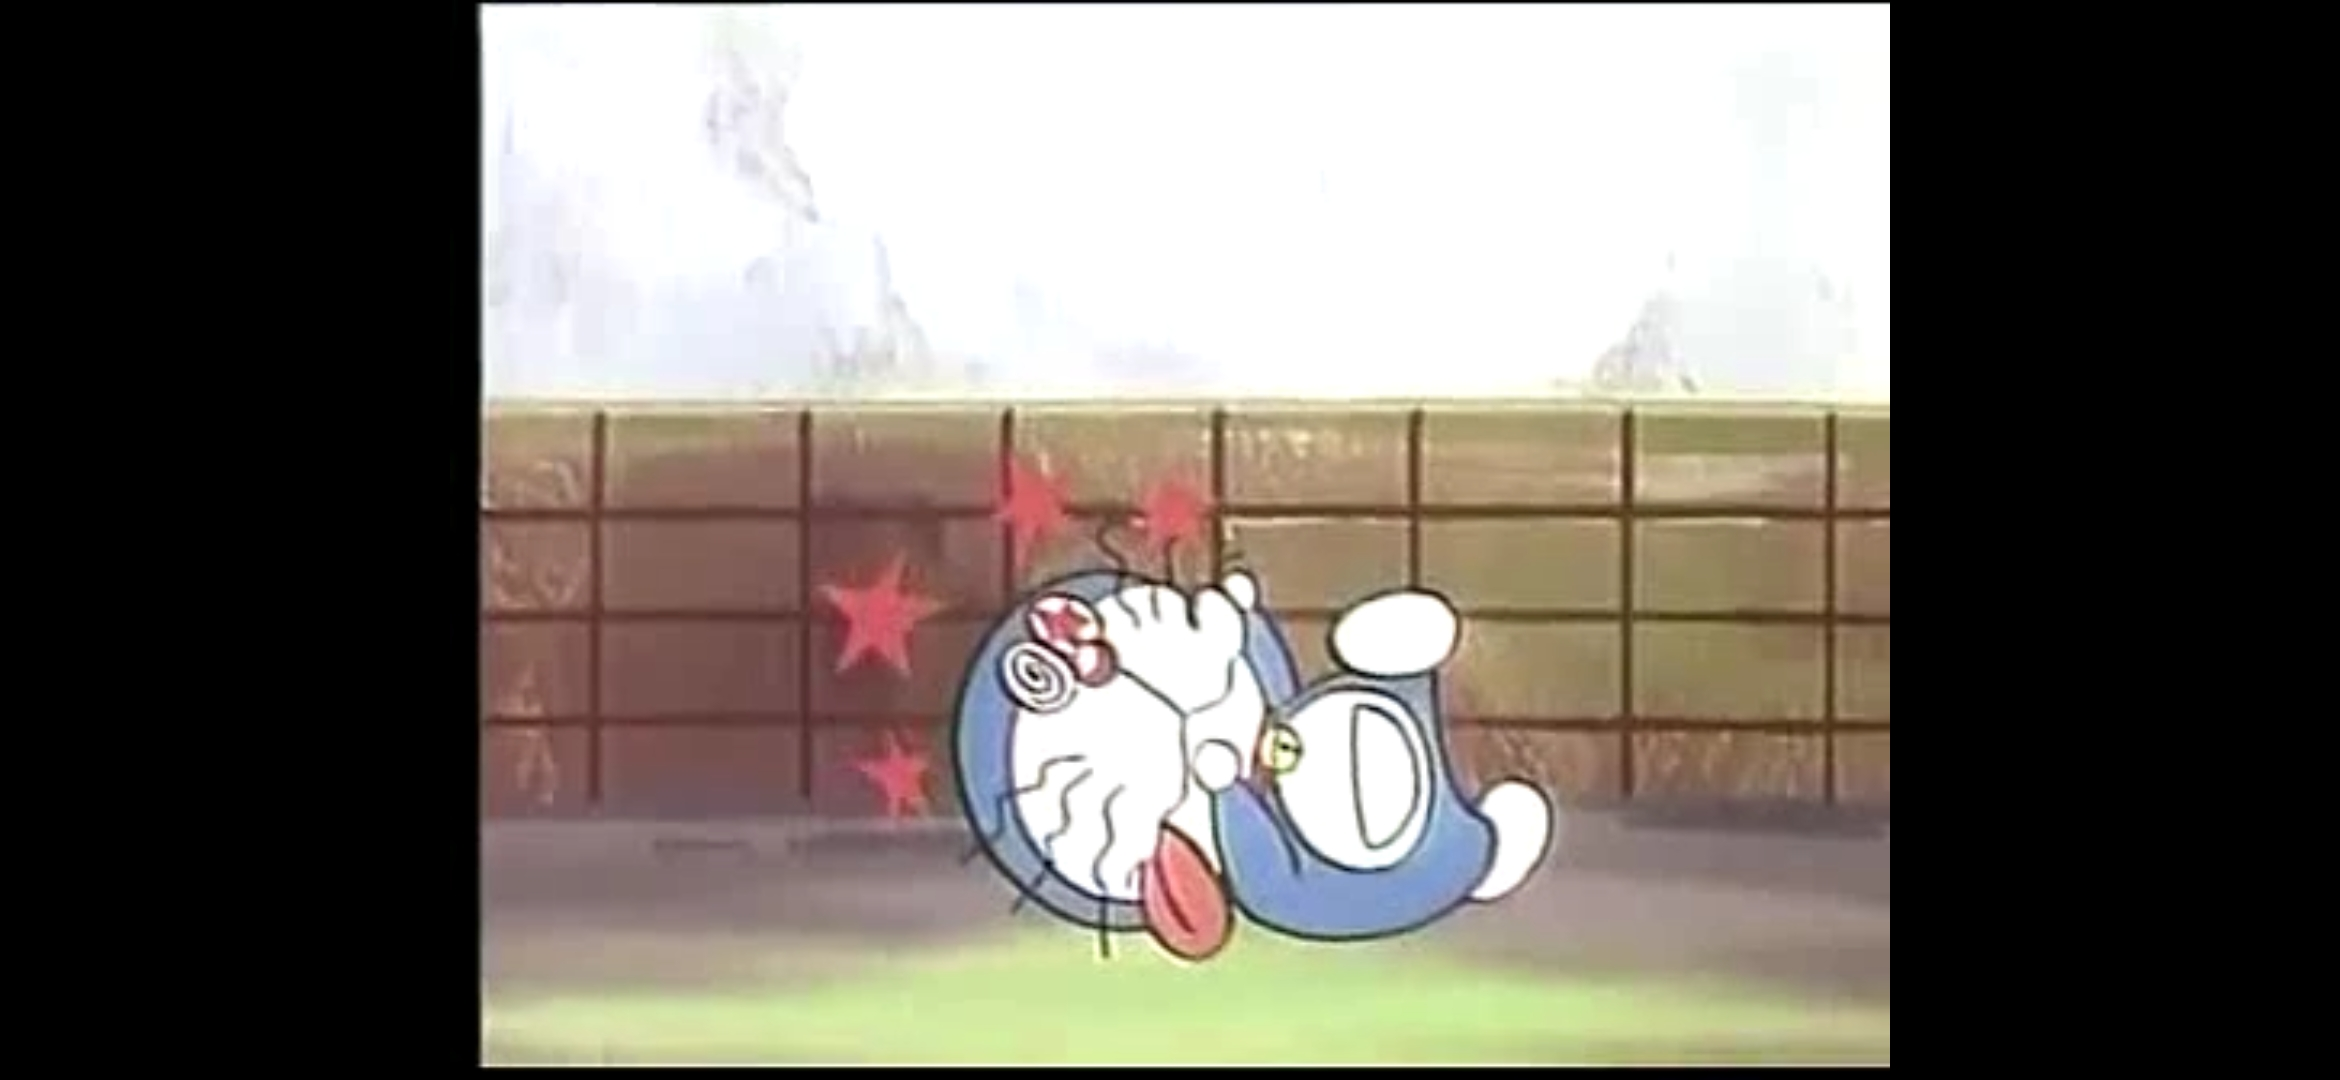Doraemon: (952, 565, 1298, 961)
